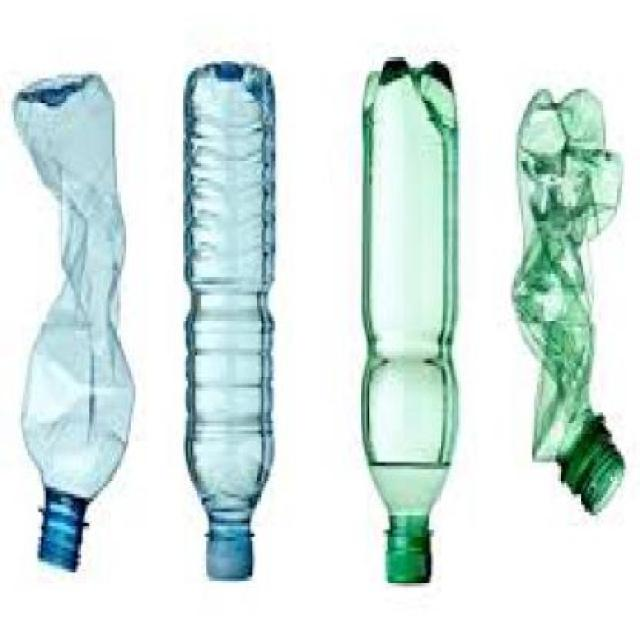PLASTIC: (12, 78, 133, 576), (361, 61, 456, 590), (509, 92, 622, 520), (184, 68, 270, 583), (202, 530, 250, 587), (383, 534, 429, 586)
